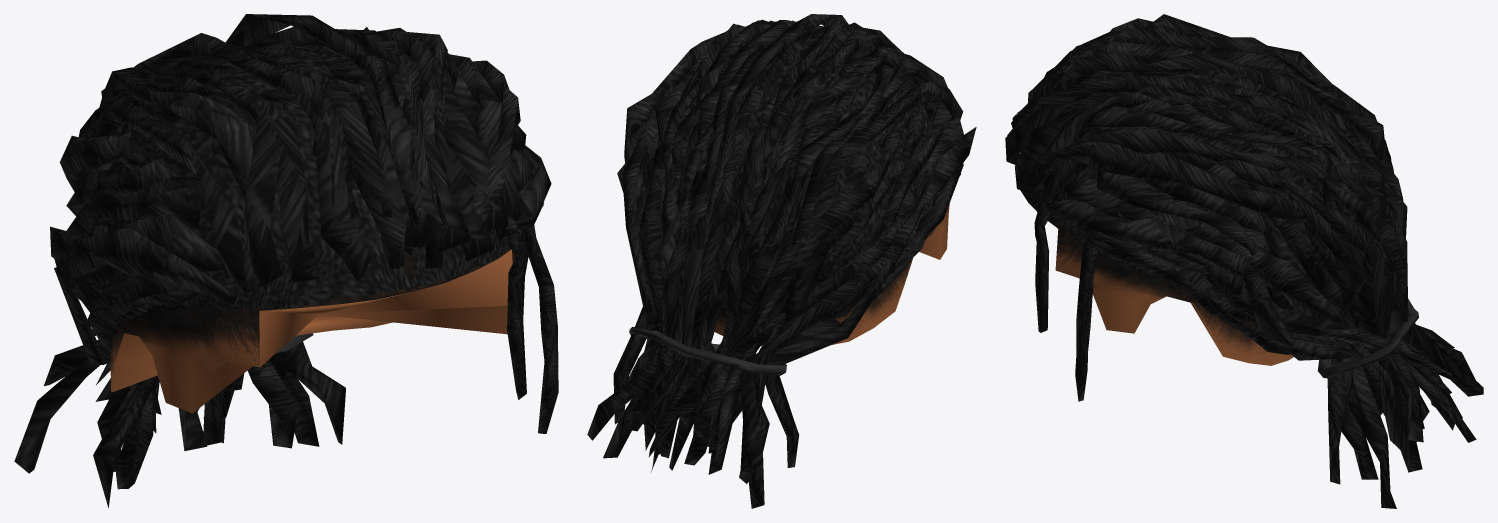
The picture shows the model from 3 angles, left to right: view 1: azimuth 30°, elevation 25°; view 2: azimuth 150°, elevation 25°; view 3: azimuth 270°, elevation 25°; orthographic projection. The views are drawn at different scales.
Parts seen in each view (by area): view 1: geometry_0; view 2: geometry_0; view 3: geometry_0.
Part boxes in pixels (x1,y1,x2,y2): geometry_0: [14, 14, 558, 508]; geometry_0: [587, 14, 976, 508]; geometry_0: [1005, 14, 1483, 508].
Bounding box in the file's own units: 1.47 × 1.85 × 1.95.
1 material, 1 textured.
